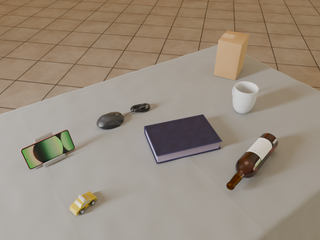book: (144, 114, 222, 164)
bottle: (227, 133, 278, 190)
box: (214, 31, 249, 80)
cup: (232, 82, 259, 114)
mouse: (97, 112, 124, 129)
phone: (21, 130, 75, 169)
toy_car: (70, 191, 97, 216)
